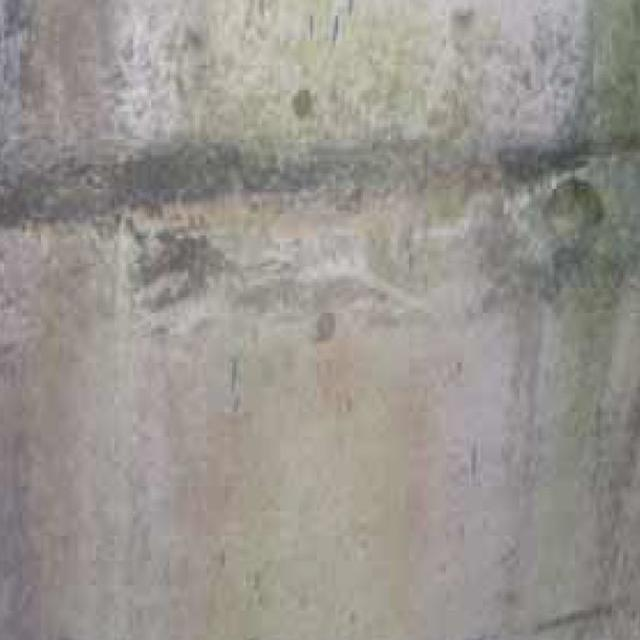crack: (140, 197, 461, 356)
